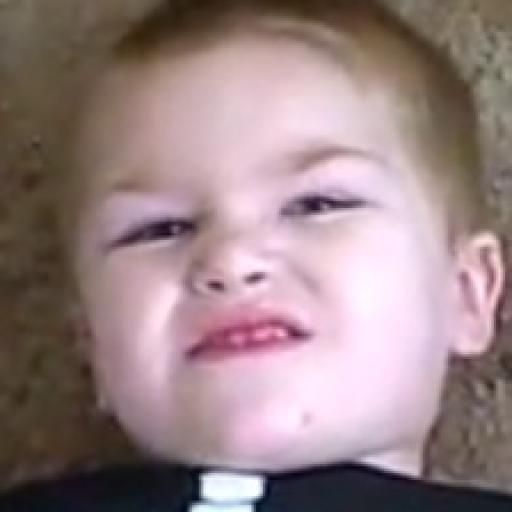Autism: (63, 15, 512, 497)
